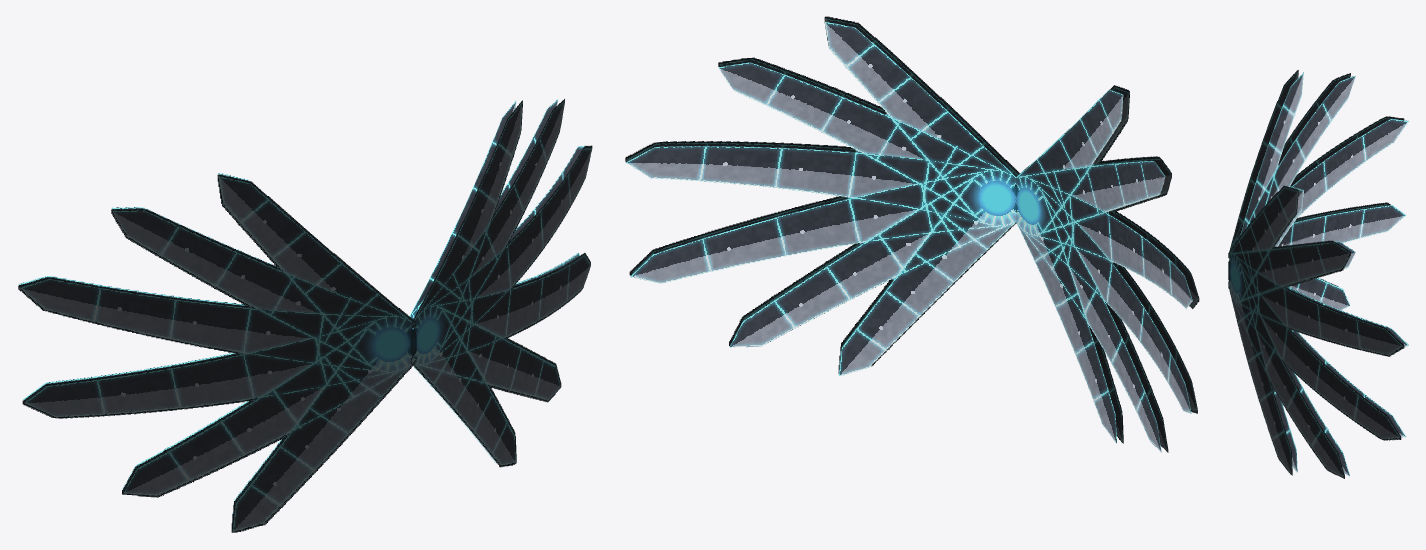
The model's file is mecha_thruster_wings.glb.
3 renders of one model, left to right at view 1: azimuth 30°, elevation 25°; view 2: azimuth 150°, elevation 25°; view 3: azimuth 270°, elevation 25°, orthographic. The views are drawn at different scales.
Parts seen in each view (by area): view 1: Mecha Thruster Wings Wing Right, Mecha Thruster Wings Wing Left; view 2: Mecha Thruster Wings Wing Left, Mecha Thruster Wings Wing Right; view 3: Mecha Thruster Wings Wing Left, Mecha Thruster Wings Wing Right.
Boxes of the visible parts, left/top/right/bottom form: Mecha Thruster Wings Wing Right: left=18, top=173, right=416, bottom=532; Mecha Thruster Wings Wing Left: left=409, top=99, right=592, bottom=467; Mecha Thruster Wings Wing Left: left=625, top=16, right=1019, bottom=375; Mecha Thruster Wings Wing Right: left=1016, top=85, right=1199, bottom=452; Mecha Thruster Wings Wing Left: left=1228, top=185, right=1408, bottom=478; Mecha Thruster Wings Wing Right: left=1228, top=70, right=1408, bottom=310.
Bounding box in the file's own units: 2.06 × 1.24 × 0.701.
Materials: 2 (2 with a texture image).
